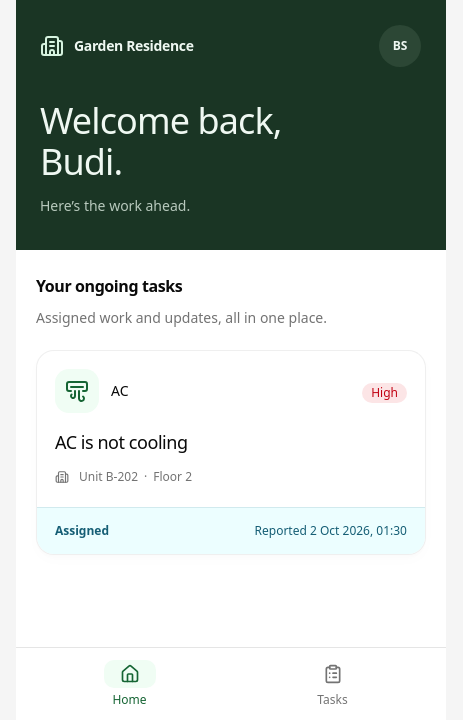
shows the Concierge home and real property, then opens profile within the technician portal
This screenshot has width=463, height=720.
Expected: the heading "Welcome back, Budi." is shown, [40,96,282,186]
Click the link "BS": (400, 46) [378,24,422,68]
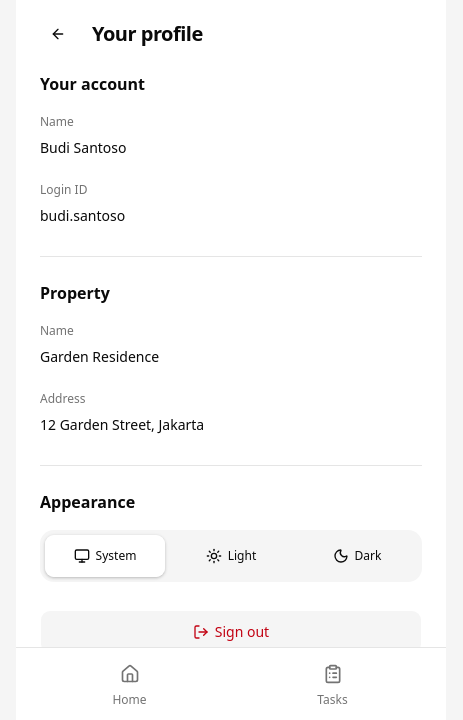
Now the heading "Your profile" is shown, box [92,20,203,48]
Click the link named "Back to home": (58, 34) [50,26,66,42]
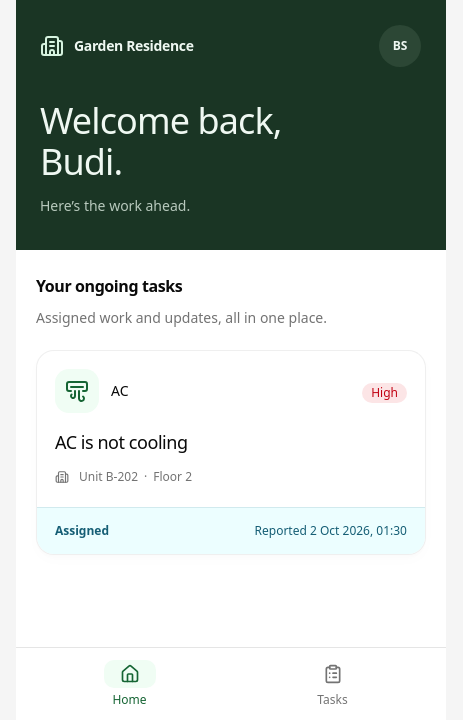
Now the heading "Your ongoing tasks" is shown, box [36,275,182,297]
